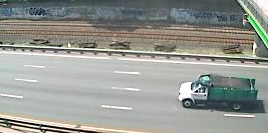car: (174, 72, 259, 115)
